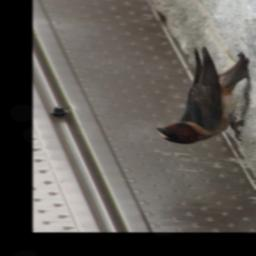Swallow: (156, 46, 253, 145)
